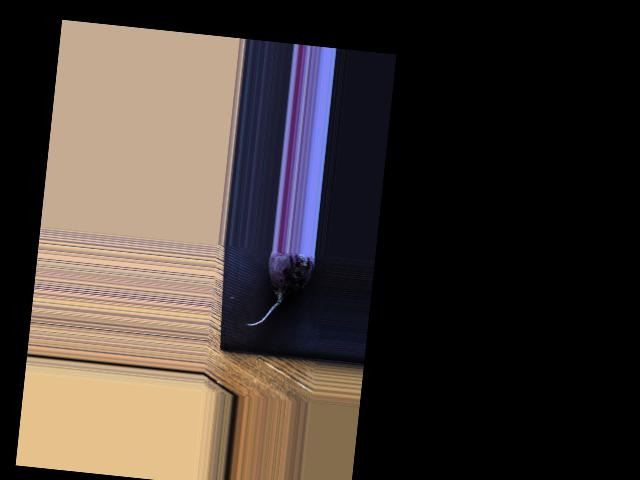beet: (246, 249, 315, 332)
